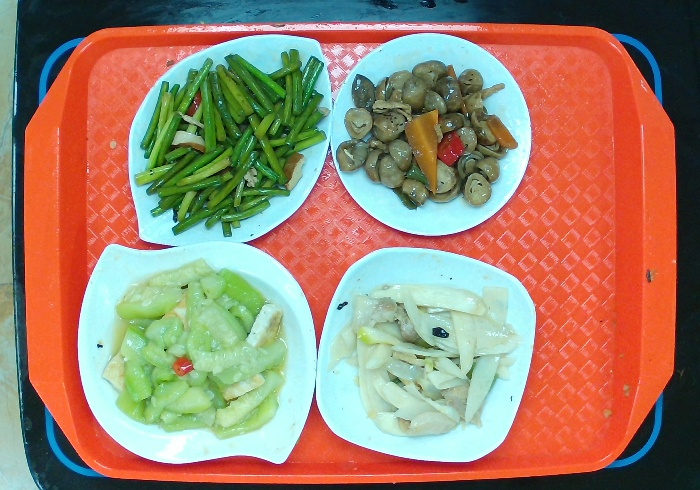RJxy-Da_Du_Pan: (125, 31, 334, 247)
RJxy-Shuang_Jiao_Pan: (76, 239, 319, 468)
RJxy-Si_Fang_Wan: (314, 243, 537, 464)
RJxy-Xiao_Yuan_Die: (329, 30, 533, 236)
